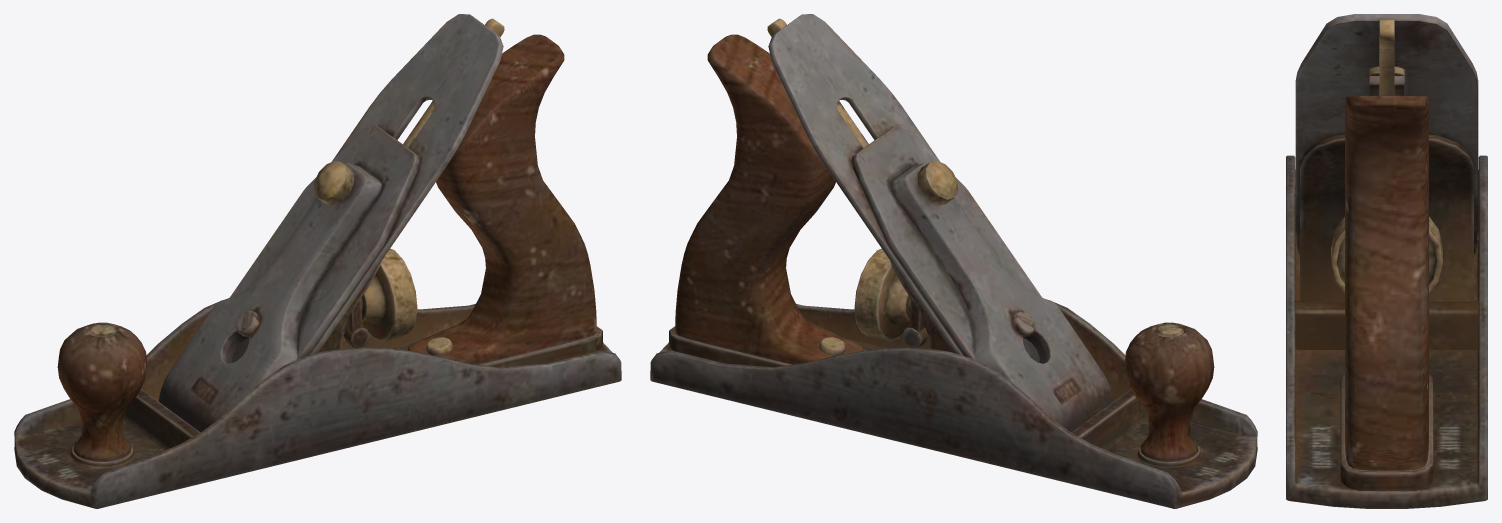
File: hand_plane_no4.glb
The picture shows the model from 3 angles, left to right: view 1: azimuth 30°, elevation 25°; view 2: azimuth 150°, elevation 25°; view 3: azimuth 270°, elevation 25°; orthographic projection. The views are drawn at different scales.
Visible parts, largest first — view 1: hand_plane_no4; view 2: hand_plane_no4; view 3: hand_plane_no4.
Boxes of the visible parts, left/top/right/bottom form: hand_plane_no4: left=14, top=14, right=621, bottom=508; hand_plane_no4: left=650, top=14, right=1257, bottom=508; hand_plane_no4: left=1286, top=14, right=1487, bottom=508.
Bounding box in the file's own units: 0.3308 × 0.1978 × 0.0843.
Materials: 1 (1 with a texture image).
